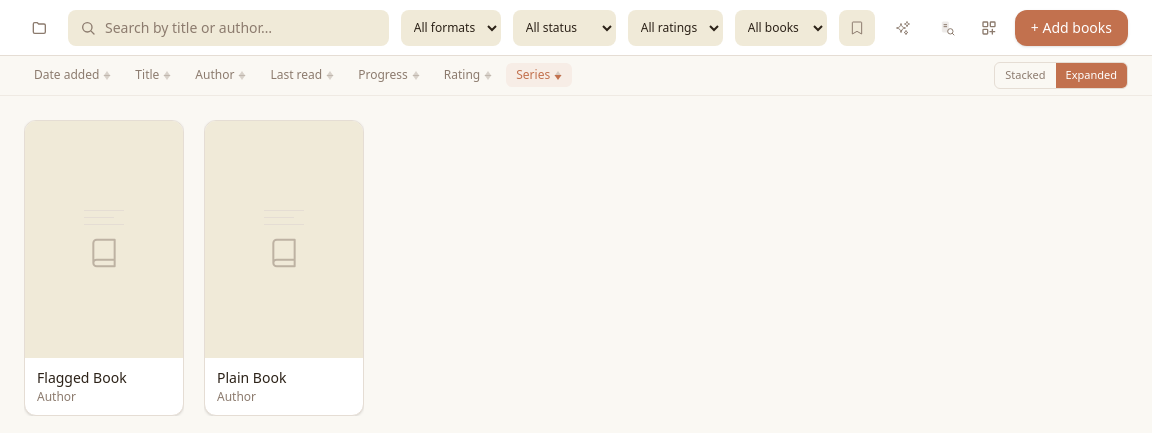
Test: Library — want-to-read filter › hides unflagged books when the filter is active
Expected: the text "Flagged Book" is shown, top-left (37, 368), bottom-right (127, 386)
Expected: the text "Plain Book" is shown, top-left (217, 368), bottom-right (286, 386)
Click the button named "Want to read": {"x": 857, "y": 28} top-left (839, 10), bottom-right (875, 46)
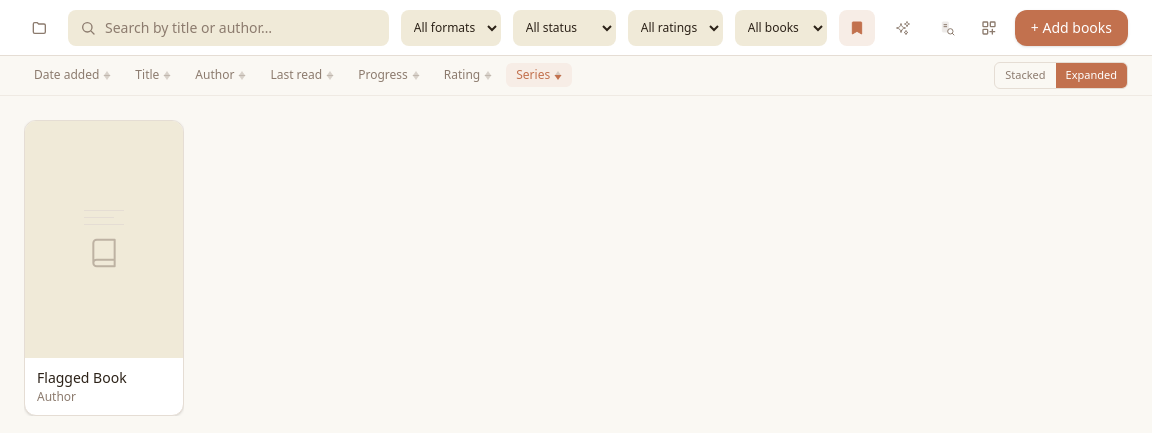
Expected: the text "Flagged Book" is shown, top-left (37, 368), bottom-right (127, 386)
Now the button "Plain Book" is gone
